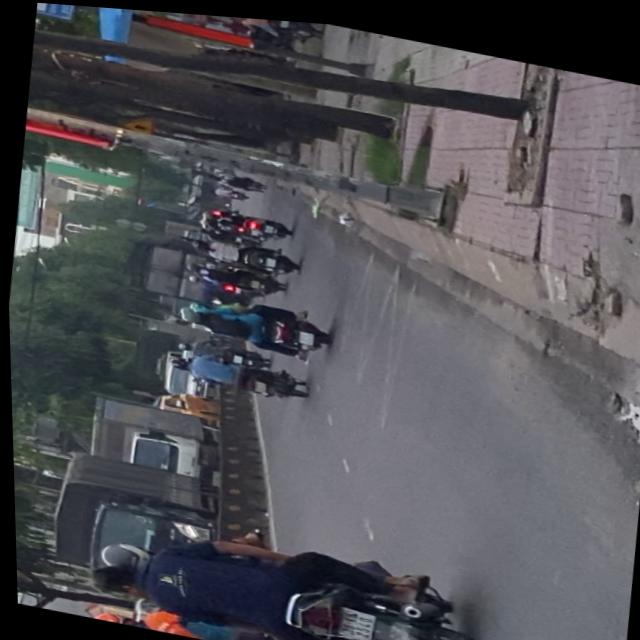helmet: (92, 537, 146, 573)
licenseplate: (78, 501, 478, 640)
motorcyclist: (83, 558, 141, 598)
nohelmet: (332, 602, 370, 636)
